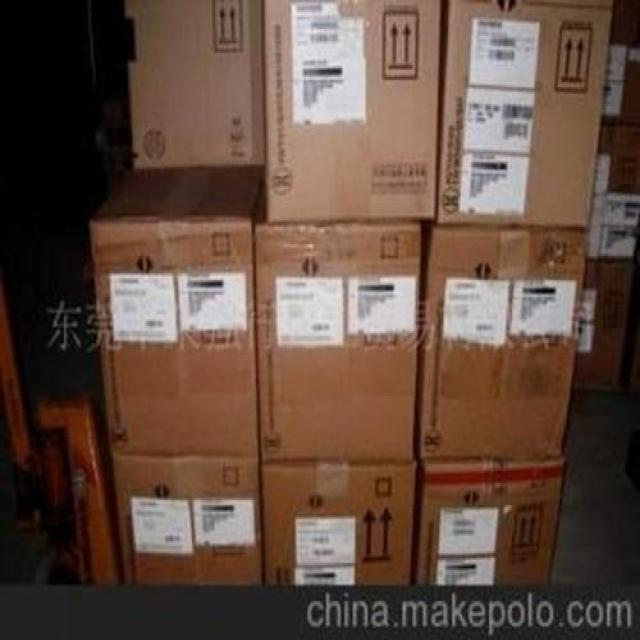box: (91, 166, 266, 456), (253, 166, 419, 463), (420, 225, 588, 461), (264, 0, 440, 224), (438, 0, 611, 227), (123, 0, 265, 167), (111, 452, 261, 584), (261, 461, 413, 587), (417, 456, 561, 585), (603, 195, 640, 227), (599, 227, 636, 256), (603, 46, 627, 80), (599, 79, 622, 114), (593, 155, 609, 193), (585, 224, 604, 254), (589, 193, 605, 225)
